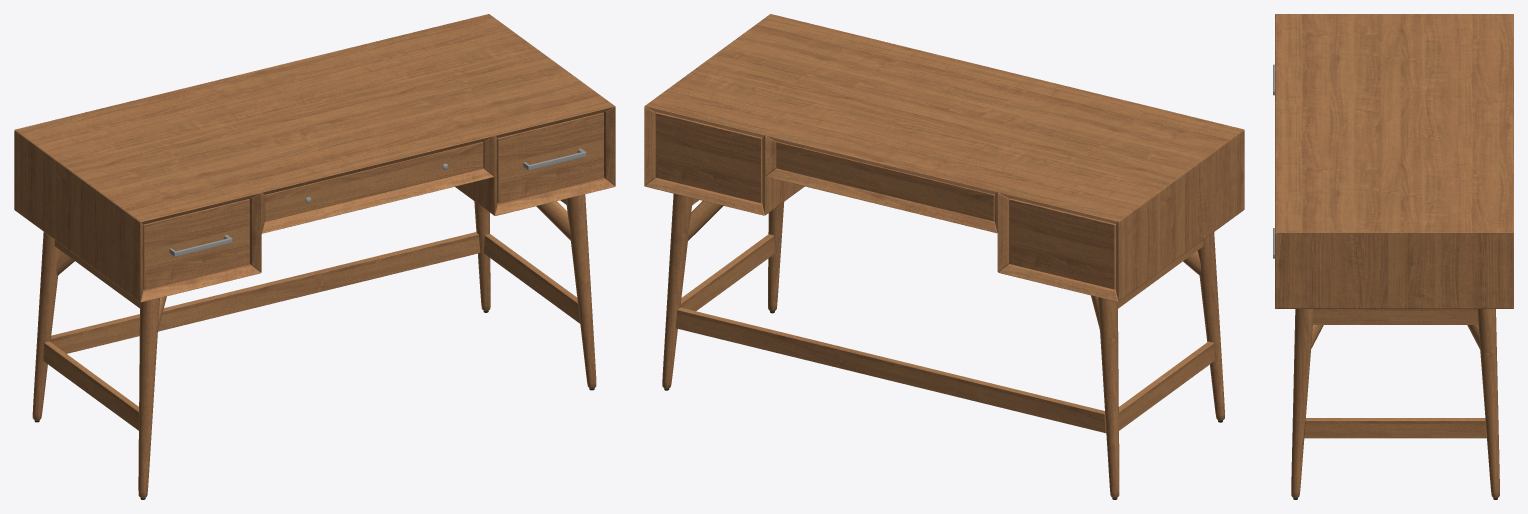
File: office-table.gltf
3 renders of one model, left to right at view 1: azimuth 30°, elevation 25°; view 2: azimuth 150°, elevation 25°; view 3: azimuth 270°, elevation 25°, orthographic. The views are drawn at different scales.
Parts seen in each view (by area): view 1: A23DOBJ_001; view 2: A23DOBJ_001; view 3: A23DOBJ_001.
Boxes of the visible parts, x1,y1,x2,y2 form: A23DOBJ_001: (14, 14, 615, 499); A23DOBJ_001: (644, 14, 1244, 499); A23DOBJ_001: (1273, 14, 1513, 499).
Bounding box in the file's own units: 1.3 × 0.7523 × 0.6035.
Materials: 3 (3 with a texture image).
